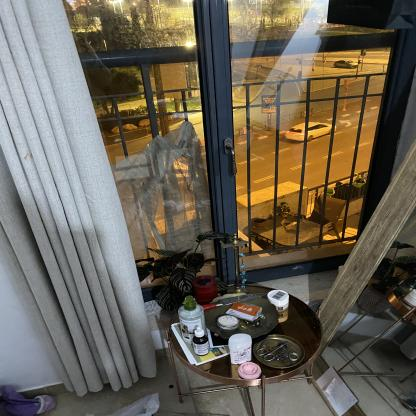Knife: (177, 292, 270, 312)
scissors: (255, 341, 291, 362)
